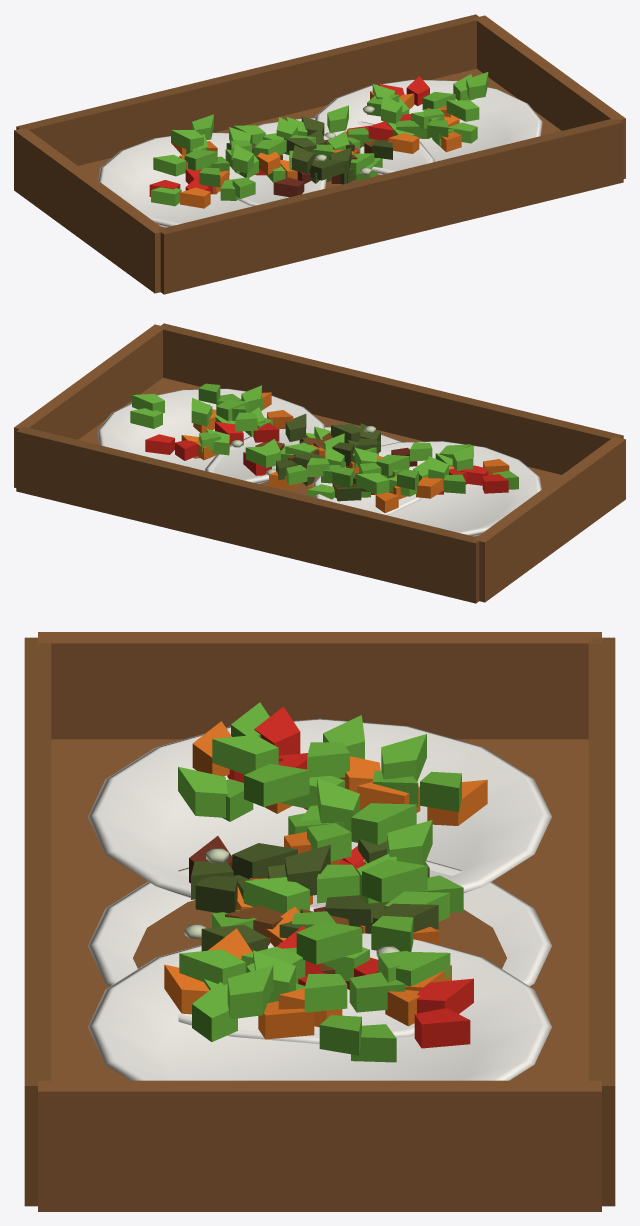
The model's file is Veg_StirFry.fbx.
3 views of the same model, one above another, from view 1: azimuth 30°, elevation 25°; view 2: azimuth 150°, elevation 25°; view 3: azimuth 270°, elevation 25° (orthographic). The views are drawn at different scales.
Parts seen in each view (by area): view 1: Veg_StirFry__Stack, Veg_StirFry, Veg_StirFry__Rotten; view 2: Veg_StirFry__Stack, Veg_StirFry, Veg_StirFry__Rotten; view 3: Veg_StirFry__Stack, Veg_StirFry, Veg_StirFry__Rotten.
Part boxes in pixels (x1,y1,x2,y2): Veg_StirFry__Stack: [14, 14, 625, 294]; Veg_StirFry: [220, 105, 434, 206]; Veg_StirFry__Rotten: [226, 106, 392, 197]; Veg_StirFry__Stack: [14, 323, 625, 603]; Veg_StirFry: [205, 426, 421, 515]; Veg_StirFry__Rotten: [231, 414, 417, 501]; Veg_StirFry__Stack: [24, 632, 615, 1211]; Veg_StirFry: [88, 820, 551, 1043]; Veg_StirFry__Rotten: [184, 836, 438, 973].
Bounding box in the file's own units: 0.328 × 0.043 × 0.178.
